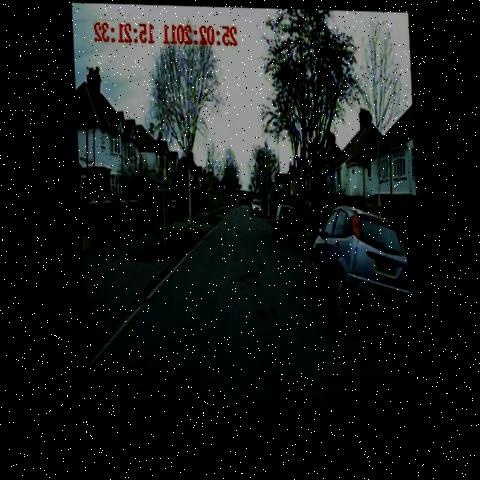pothole: (244, 337, 280, 389), (233, 249, 266, 288), (246, 295, 276, 326), (230, 222, 246, 239)
